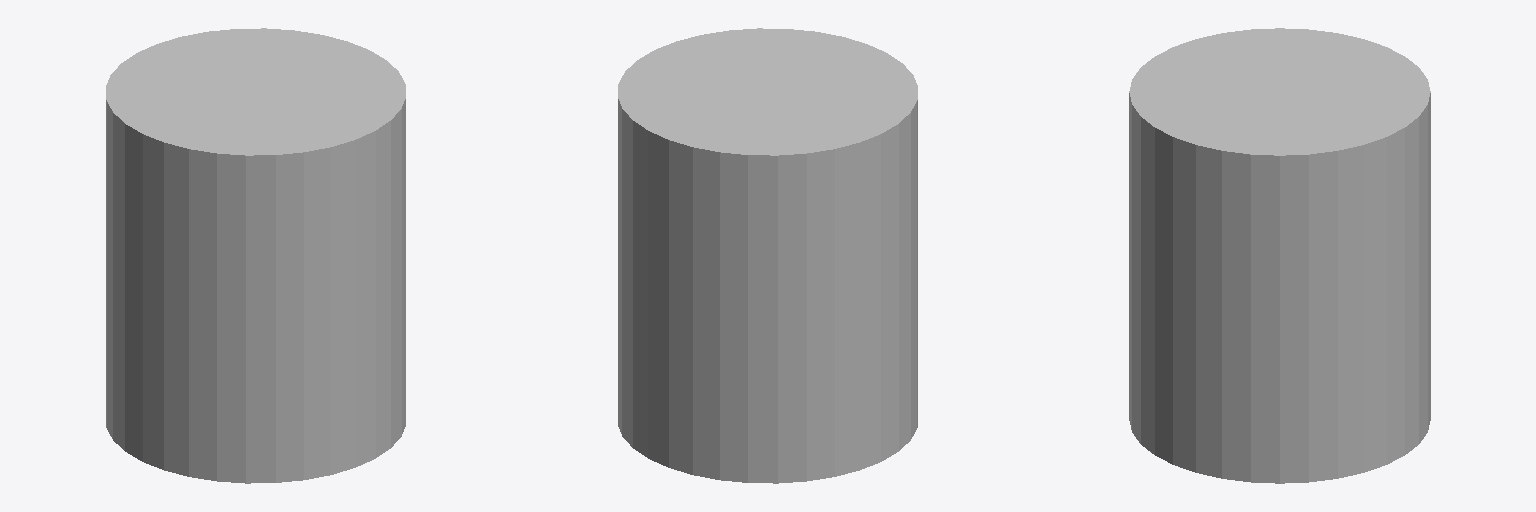
Rendered from resource_3.obj.
The picture shows the model from 3 angles: view 1: azimuth 30°, elevation 25°; view 2: azimuth 150°, elevation 25°; view 3: azimuth 270°, elevation 25°; orthographic projection.
Visible parts, largest first — view 1: Cylinder.004; view 2: Cylinder.004; view 3: Cylinder.004.
Boxes of the visible parts, box(x1,y1,x2,y2) form: Cylinder.004: box(106, 28, 405, 483); Cylinder.004: box(618, 28, 917, 483); Cylinder.004: box(1129, 28, 1430, 483).
Size of the model in its own units: 1 by 1.2 by 1.